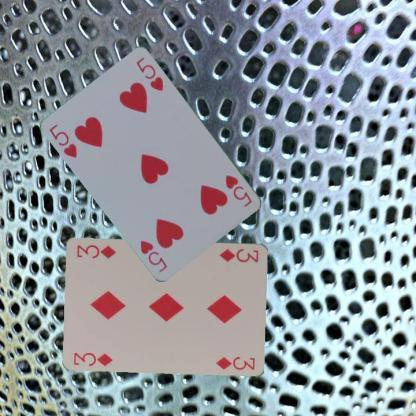3d: (216, 246, 260, 264), (70, 350, 114, 368)
5h: (46, 122, 80, 160), (222, 172, 254, 209)
